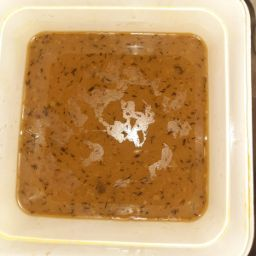Chicken Broth: (22, 30, 217, 238), (41, 40, 202, 109), (121, 61, 191, 215), (32, 83, 102, 219), (40, 38, 150, 112)
